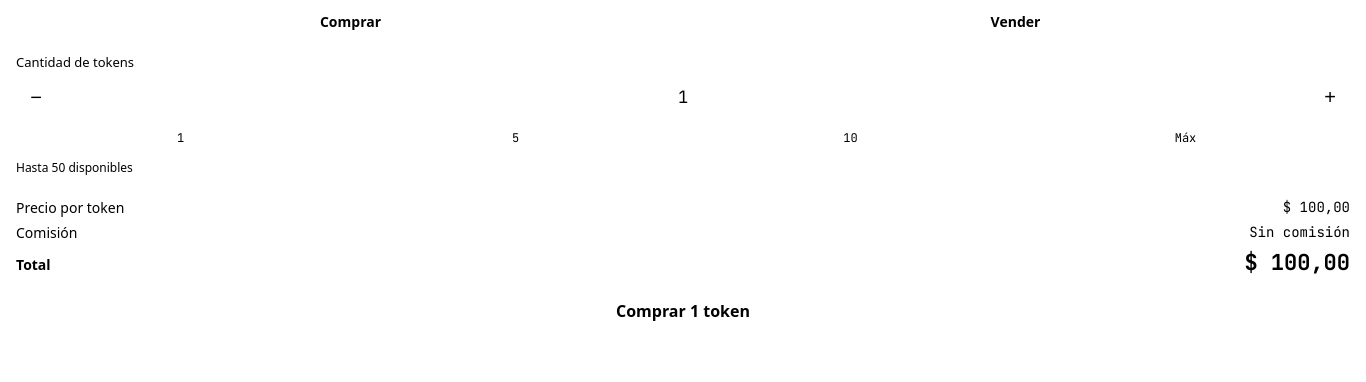
Test: TradePanel › si la compra falla, muestra el mensaje de error de la API
This screenshot has width=1366, height=382.
Click the button "Comprar 1 token" at x=683, y=311, box [16, 289, 1350, 333]
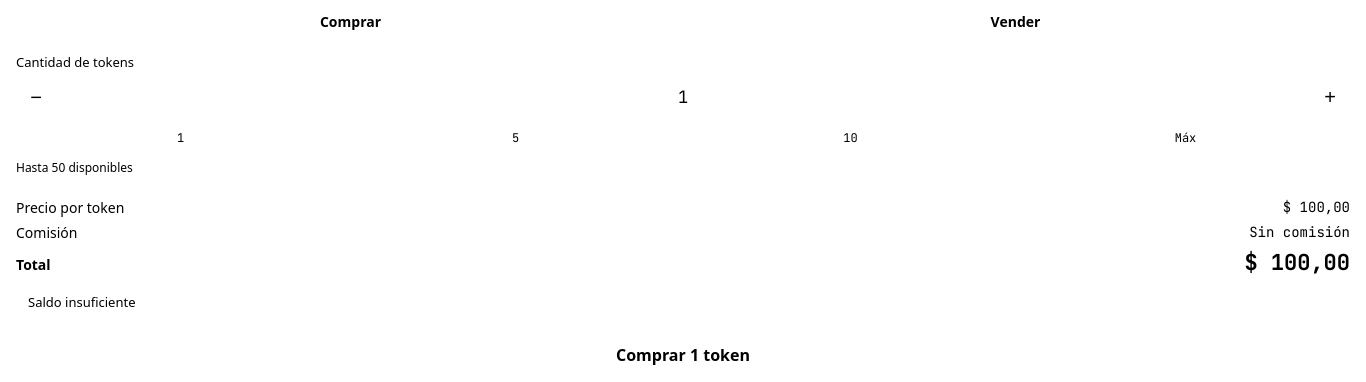
Expected: the message reads "Saldo insuficiente", [28, 293, 136, 311]
